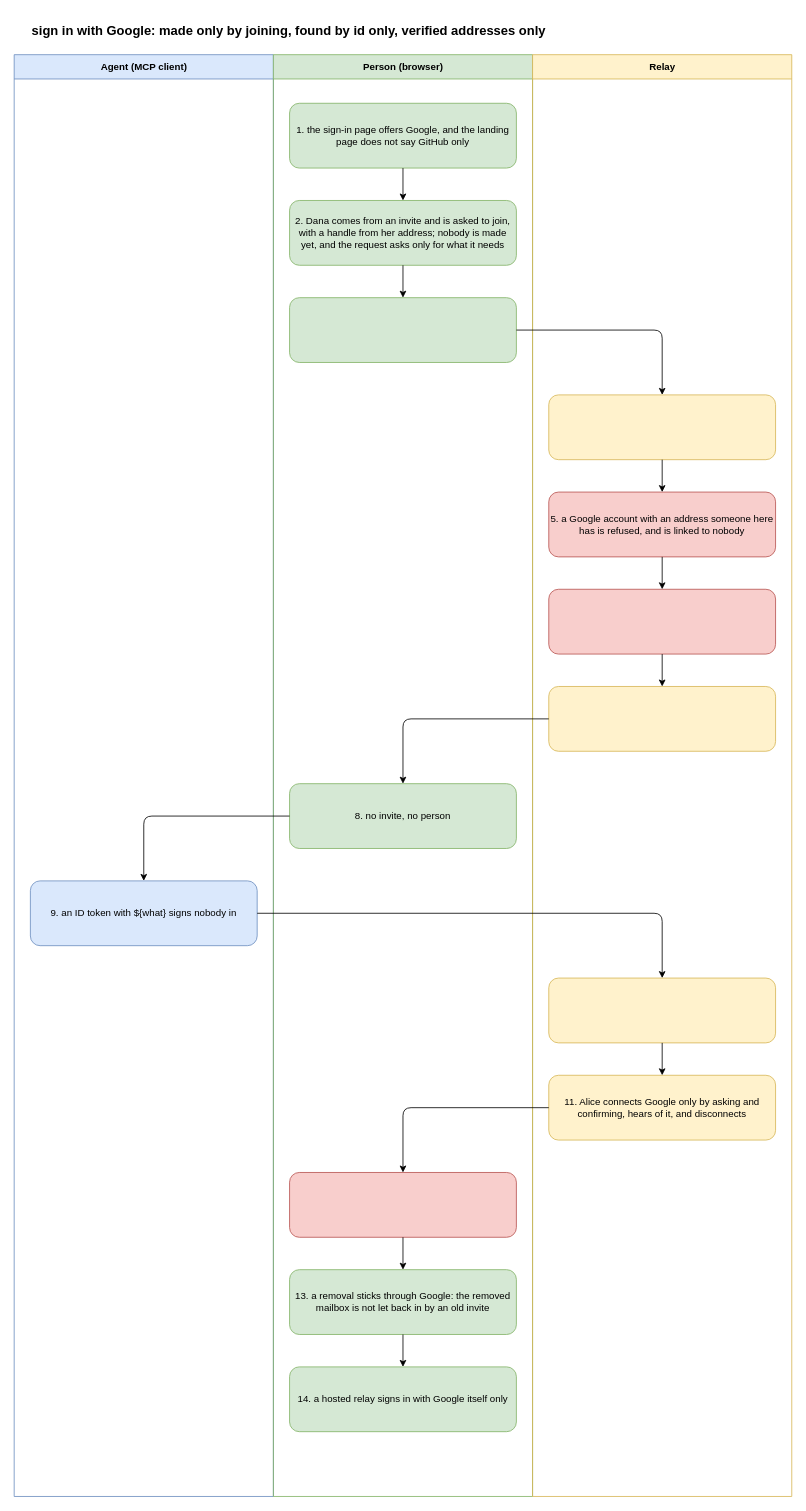
The diagram is 806 pixels wide and 1511 high, and some of its shapes have lost their labels. The centre of each missing label's shape, as x and y in pixels:
"10. a forged callback, a replay, and a start from another site do nothing" goes at [662,1010].
"12. a Google account that signs in as someone else cannot be connected" goes at [402,1204].
"3. she joins: the person has her confirmed address, and no Google token is kept" goes at [402,329].
"4. she comes back with a changed address and is found by id" goes at [662,427].
"6. a variant of that mailbox is refused too" goes at [662,621].
"7. an address Google has not verified signs nobody in" goes at [662,718].
